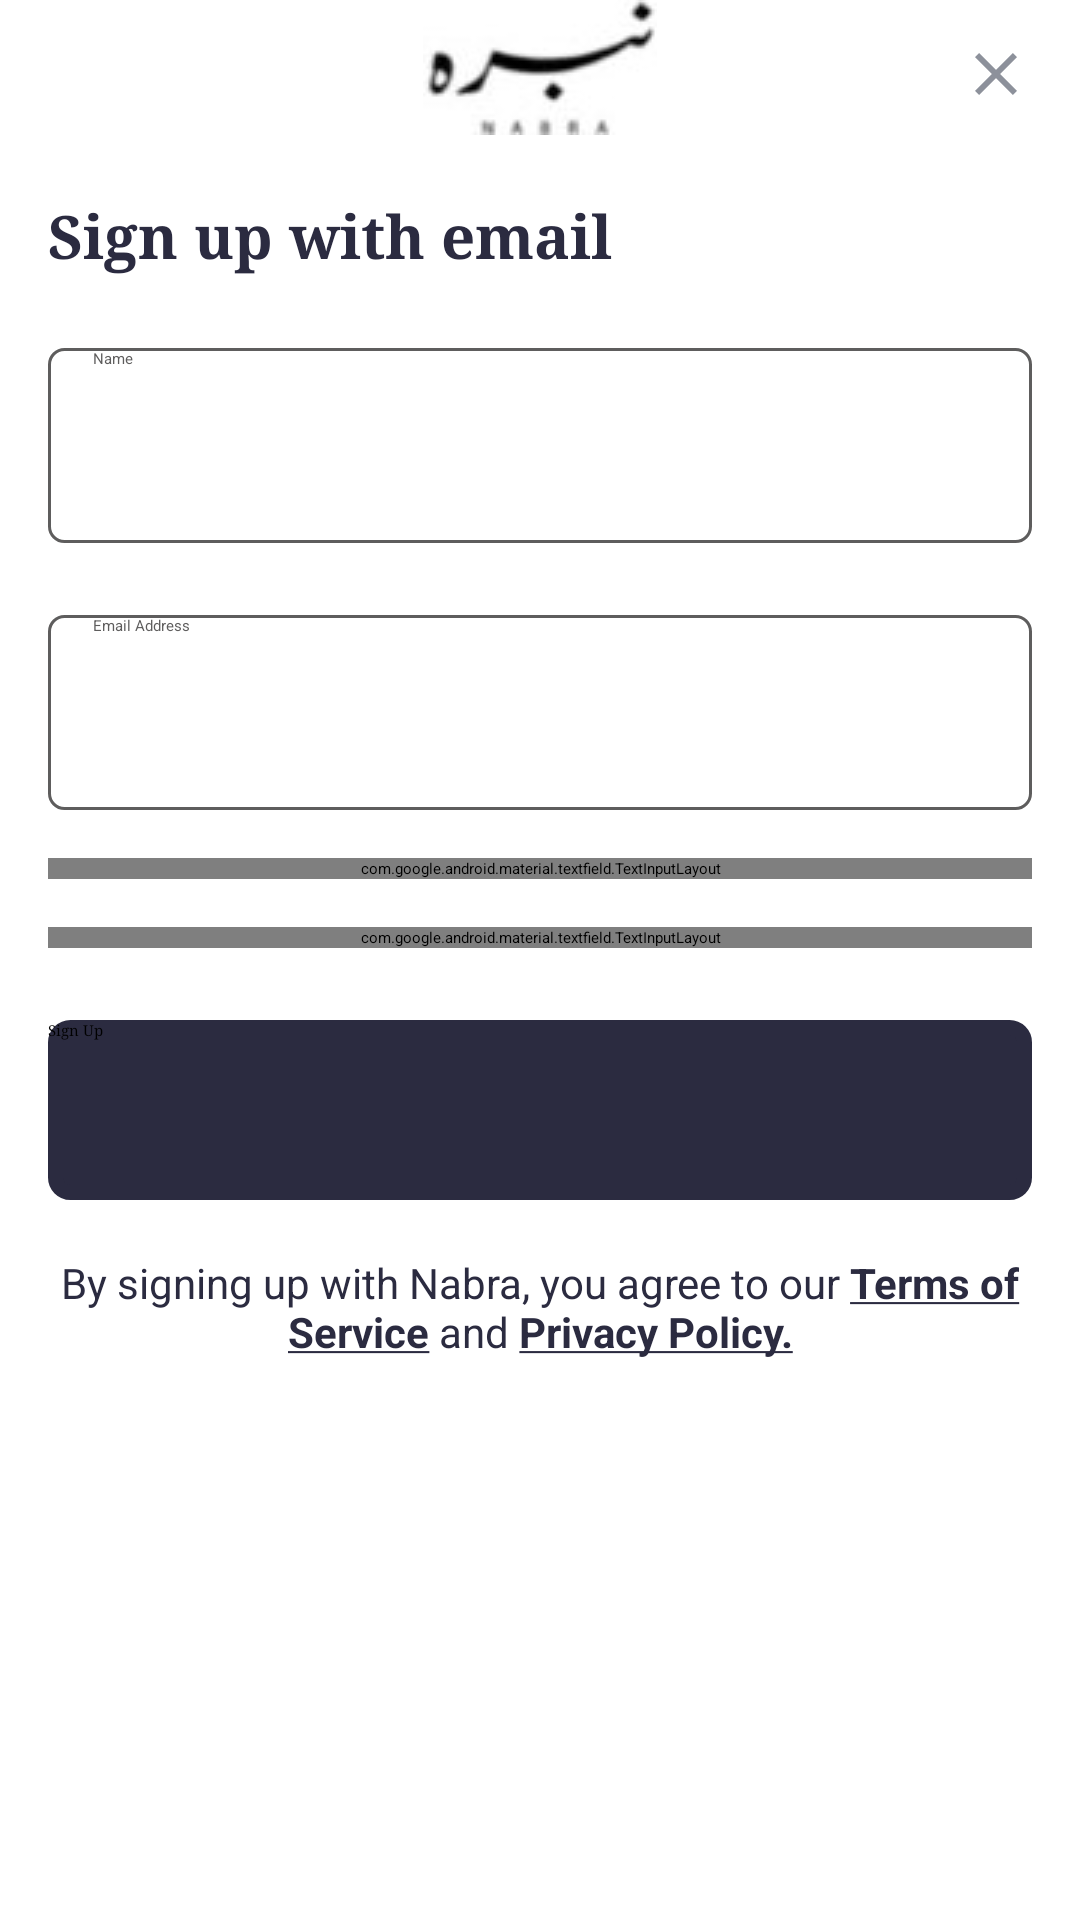

Named icons in this screenshot (1080 x 1920) and their bounding boxes, {"x1": x1, "y1": y1, "x2": x2, "y2": y2}:
close: {"x1": 975, "y1": 53, "x2": 1017, "y2": 95}
